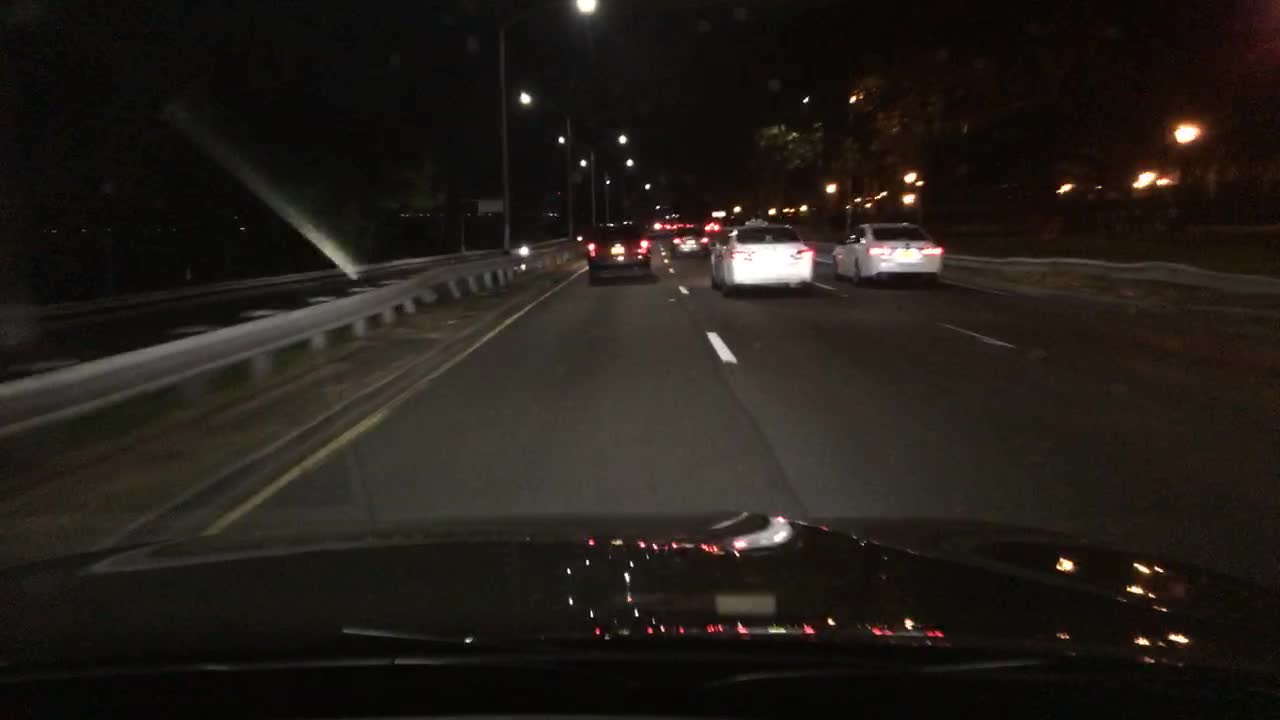car: (709, 221, 819, 295), (829, 223, 947, 283), (582, 220, 652, 280), (667, 226, 709, 259)
